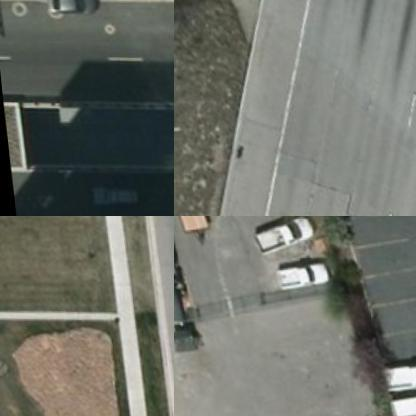car: (244, 216, 309, 252), (86, 168, 148, 204), (270, 258, 326, 288), (372, 356, 415, 383), (381, 386, 415, 415), (45, 0, 100, 11)
